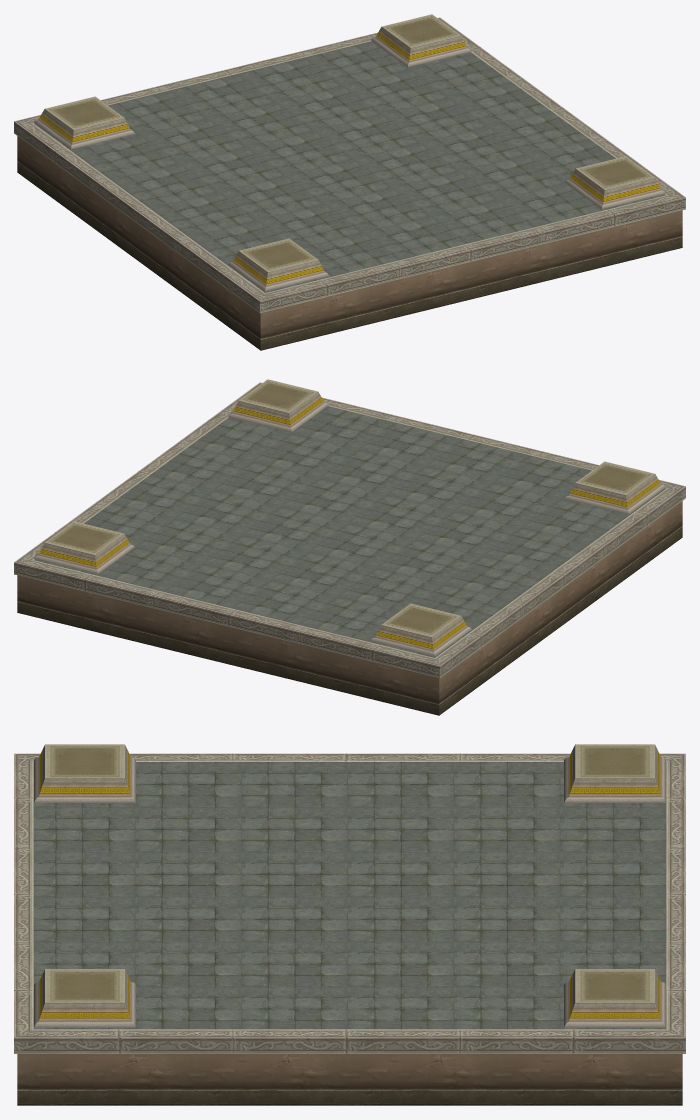
File: environment_Building_biwudahui_001_a.FBX
3 views of the same model, one above another, from view 1: azimuth 30°, elevation 25°; view 2: azimuth 150°, elevation 25°; view 3: azimuth 270°, elevation 25° (orthographic). The views are drawn at different scales.
Visible parts, largest first — view 1: environment_Building_biwudahui_001_a02, environment_Building_biwudahui_001_a01, environment_Building_biwudahui_001_a04, environment_Building_biwudahui_001_a03; view 2: environment_Building_biwudahui_001_a02, environment_Building_biwudahui_001_a01, environment_Building_biwudahui_001_a04, environment_Building_biwudahui_001_a03; view 3: environment_Building_biwudahui_001_a02, environment_Building_biwudahui_001_a01, environment_Building_biwudahui_001_a04, environment_Building_biwudahui_001_a03.
Boxes of the visible parts, x1,y1,x2,y2 form: environment_Building_biwudahui_001_a02: [34, 41, 665, 292]; environment_Building_biwudahui_001_a01: [17, 136, 682, 350]; environment_Building_biwudahui_001_a04: [14, 17, 685, 313]; environment_Building_biwudahui_001_a03: [34, 14, 665, 291]; environment_Building_biwudahui_001_a02: [34, 406, 665, 657]; environment_Building_biwudahui_001_a01: [17, 501, 682, 715]; environment_Building_biwudahui_001_a04: [14, 382, 685, 678]; environment_Building_biwudahui_001_a03: [33, 379, 665, 656]; environment_Building_biwudahui_001_a02: [33, 762, 666, 1029]; environment_Building_biwudahui_001_a01: [17, 1054, 682, 1105]; environment_Building_biwudahui_001_a04: [14, 753, 685, 1053]; environment_Building_biwudahui_001_a03: [34, 744, 665, 1027].
Bounding box in the file's own units: 2945 × 2945 × 442.
